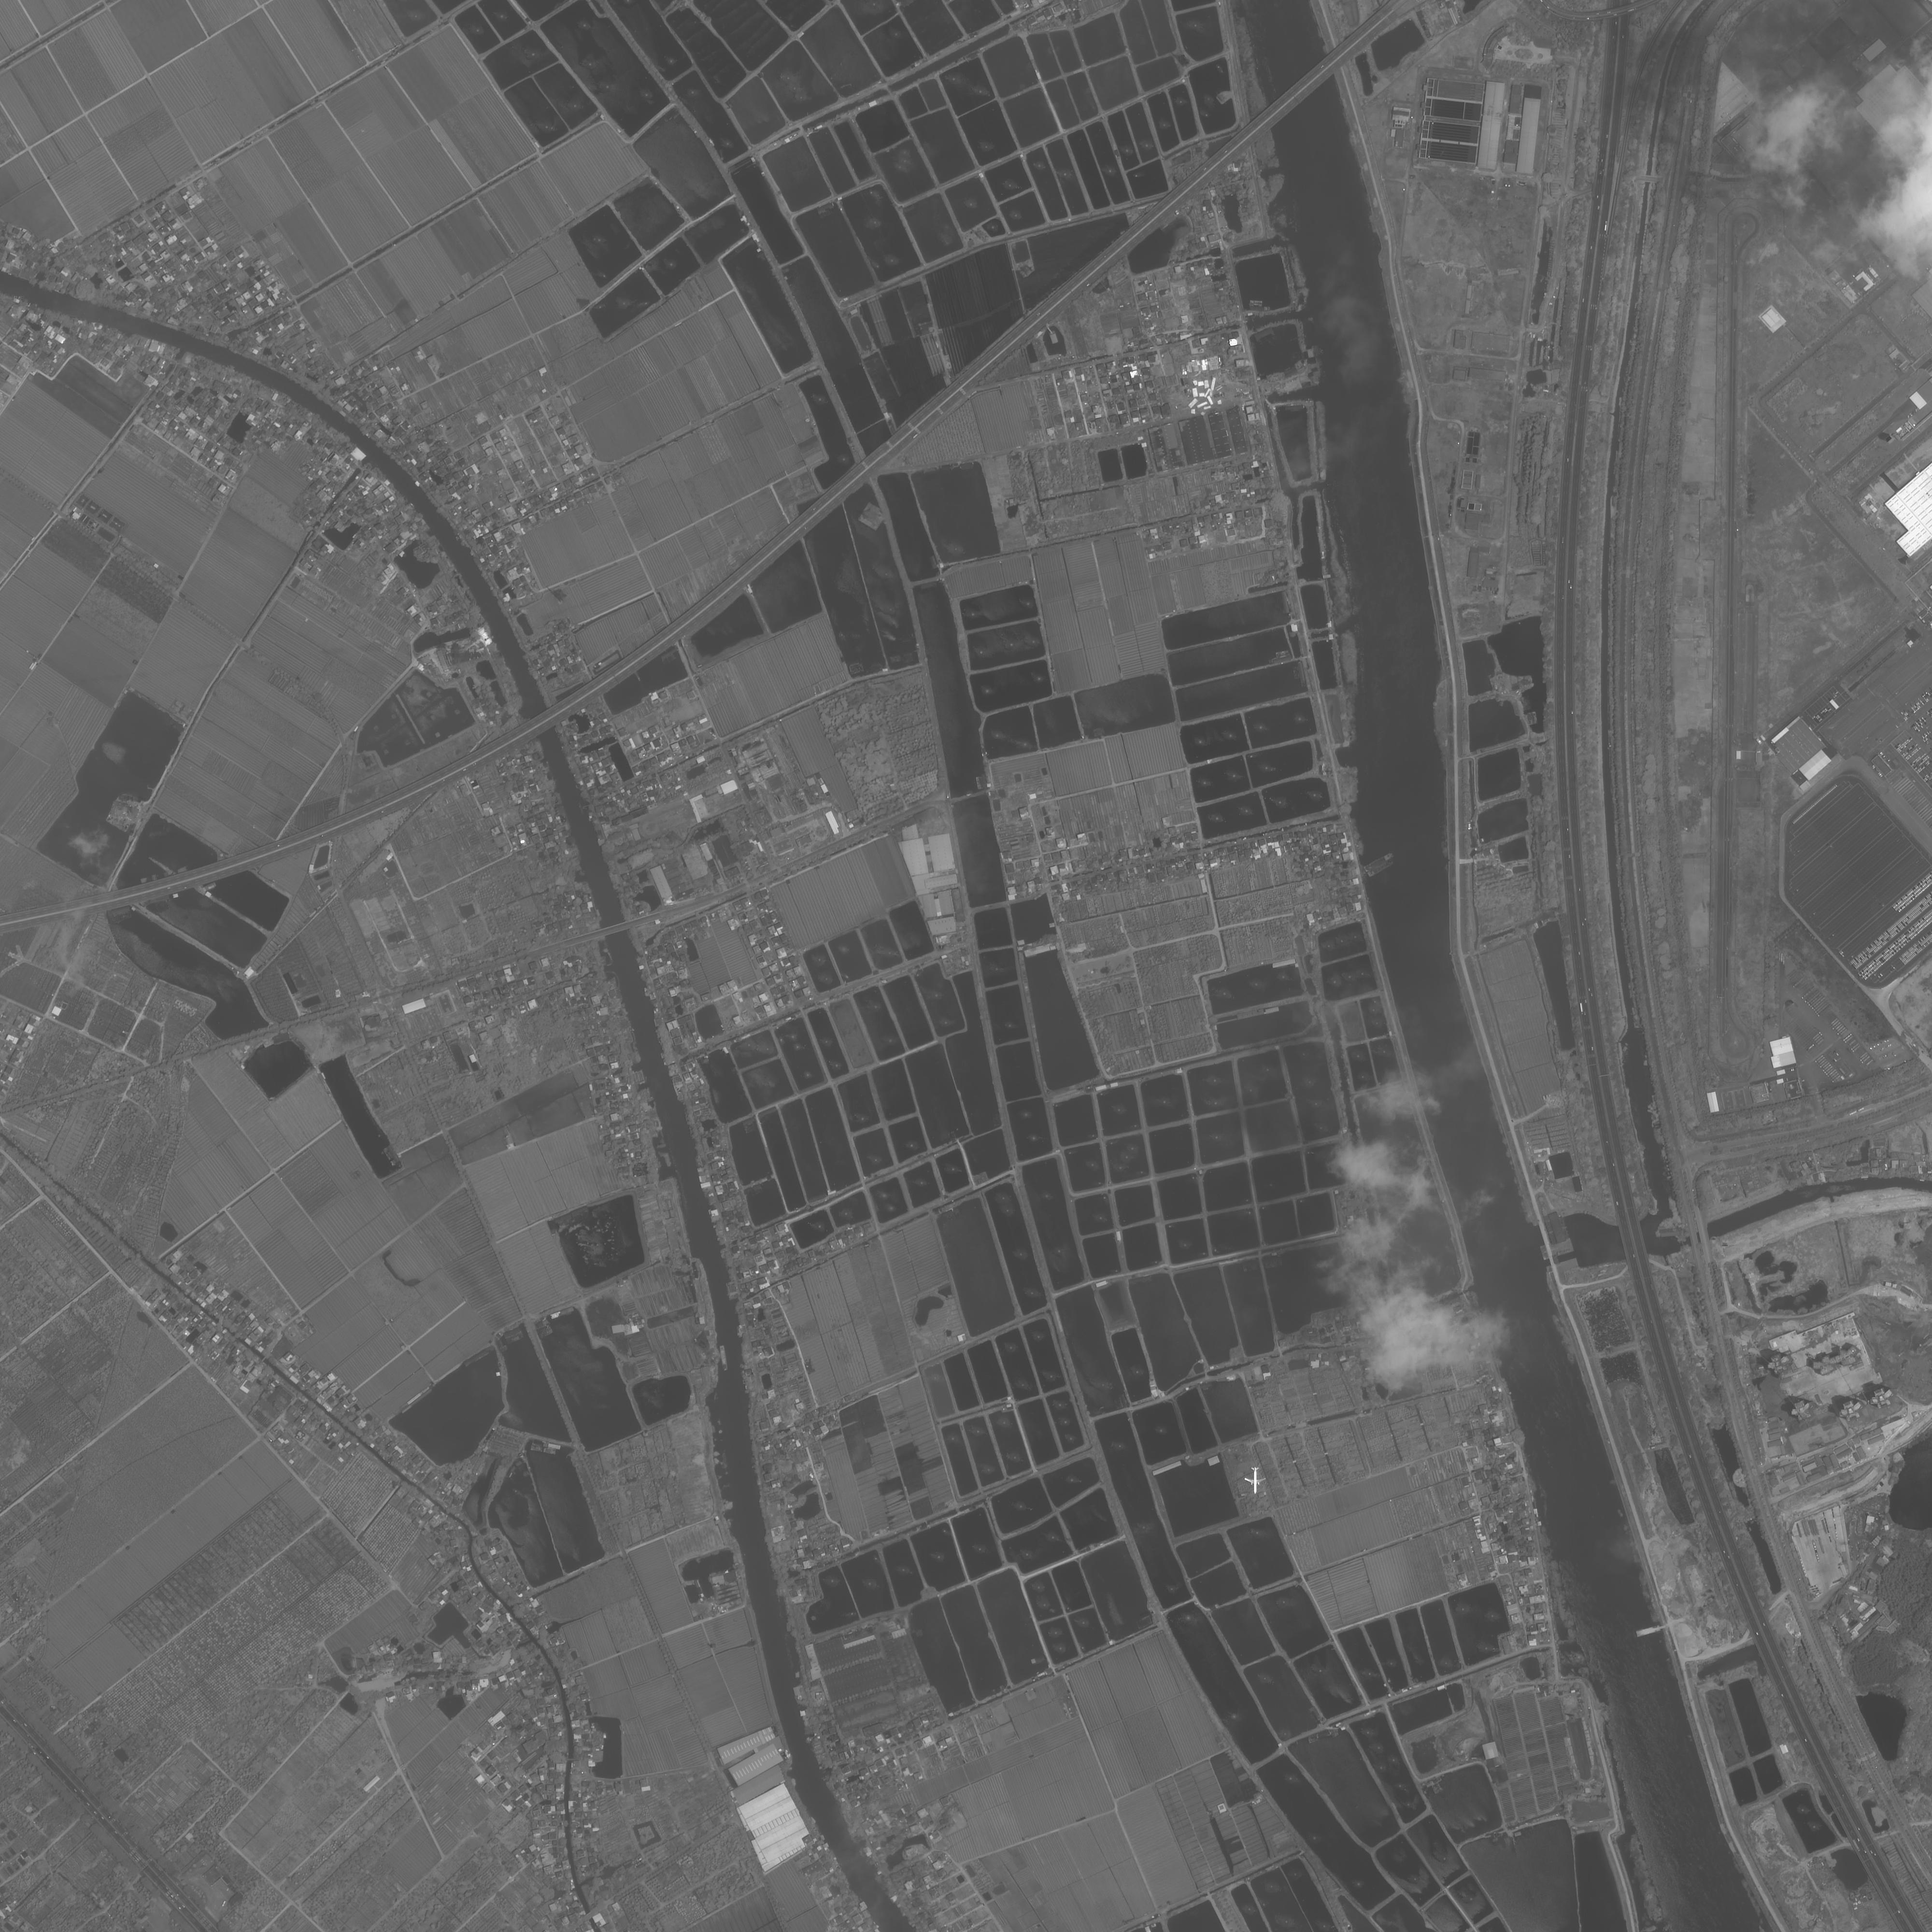harbor: (1635, 1623, 1665, 1638)
plane: (1242, 1464, 1267, 1498)
ship: (1361, 851, 1396, 874), (1365, 860, 1395, 880), (719, 1345, 729, 1371)
